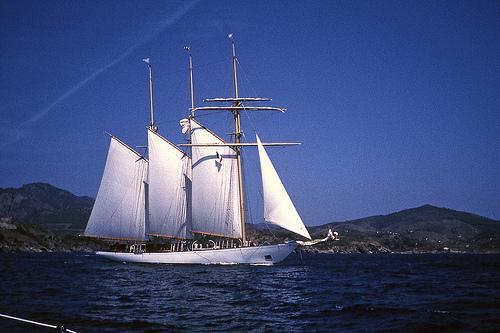Ship: (77, 43, 334, 270)
